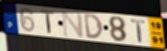6: (19, 7, 37, 34)
8: (108, 15, 129, 43)
D: (83, 13, 105, 40)
N: (61, 10, 86, 38)
T: (130, 19, 146, 44), (40, 9, 55, 35)
